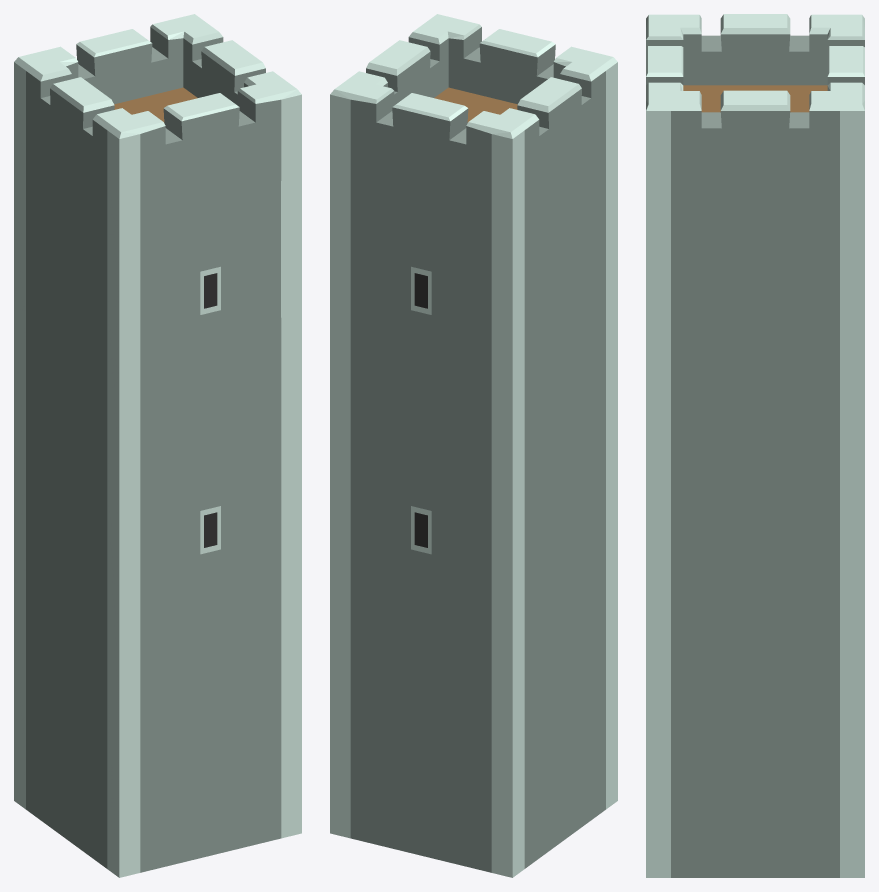
The model's file is castle-tower-square.fbx.
The picture shows the model from 3 angles, left to right: view 1: azimuth 30°, elevation 25°; view 2: azimuth 150°, elevation 25°; view 3: azimuth 270°, elevation 25°; orthographic projection. The views are drawn at different scales.
Visible parts, largest first — view 1: castle-tower-square; view 2: castle-tower-square; view 3: castle-tower-square.
Boxes of the visible parts, <box> form: castle-tower-square: <box>14,14,301,877</box>; castle-tower-square: <box>330,14,617,877</box>; castle-tower-square: <box>646,14,864,877</box>.
Bounding box in the file's own units: 4.39 × 17.1 × 4.39.
